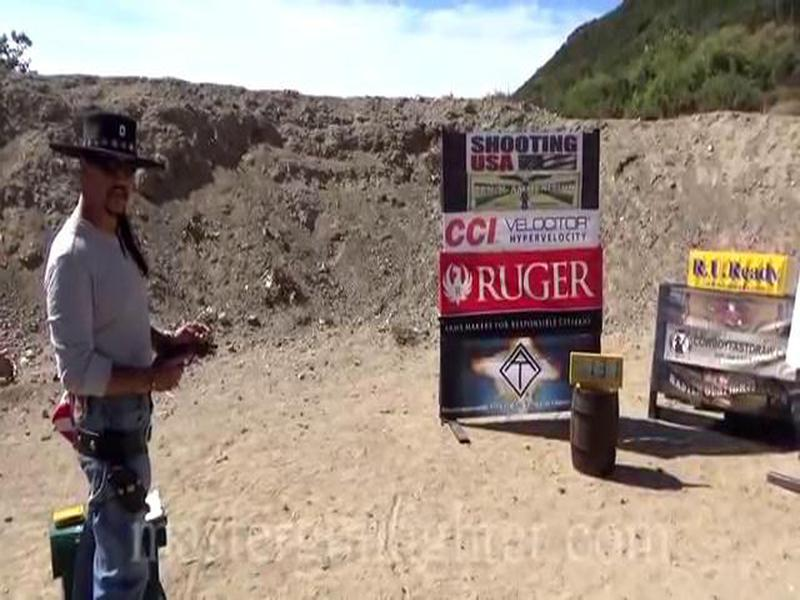Pistola: (152, 330, 227, 395)
